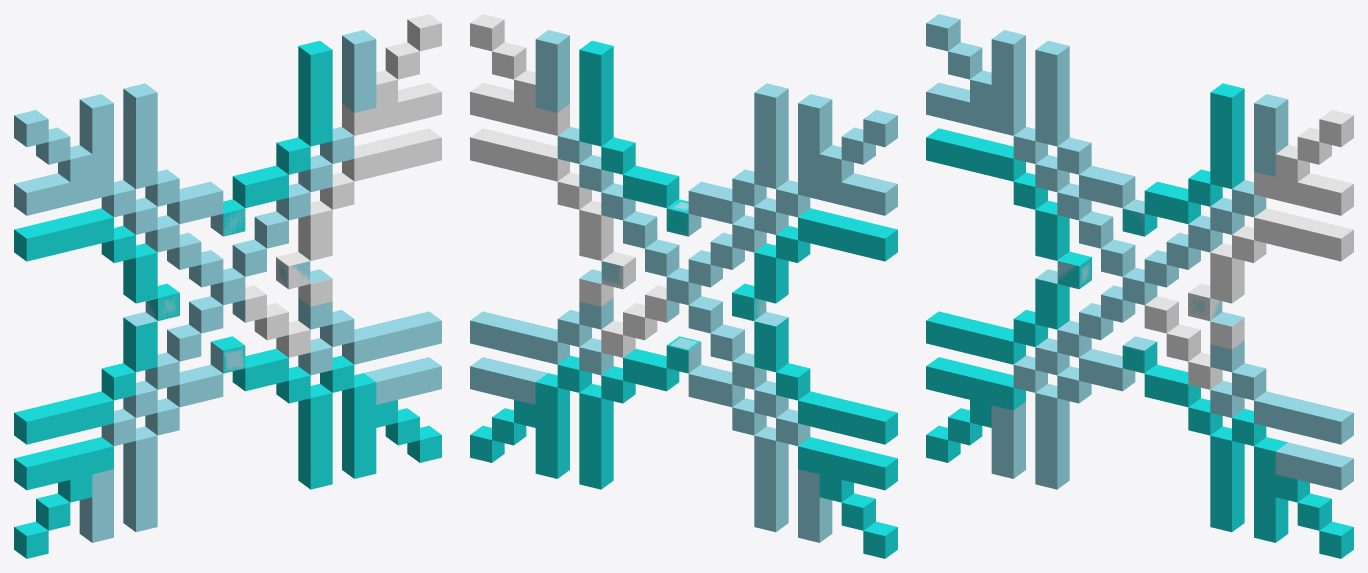
The model's file is p_snow_voxel.fbx.
3 renders of one model, left to right at view 1: azimuth 30°, elevation 25°; view 2: azimuth 150°, elevation 25°; view 3: azimuth 330°, elevation 25°, orthographic.
Parts seen in each view (by area): view 1: Voxels.snow.008, Voxels.snow.065, Voxels.snow.024, Voxels.snow.067, Voxels.snow.120, Voxels.snow.005, Voxels.snow.009, Voxels.snow.043, Voxels.snow.066, Voxels.snow.107, Voxels.snow.134, Voxels.snow.030 (+106 smaller); view 2: Voxels.snow.008, Voxels.snow.065, Voxels.snow.024, Voxels.snow.067, Voxels.snow.120, Voxels.snow.005, Voxels.snow.009, Voxels.snow.043, Voxels.snow.066, Voxels.snow.107, Voxels.snow.134, Voxels.snow.030 (+105 smaller); view 3: Voxels.snow.031, Voxels.snow.042, Voxels.snow.033, Voxels.snow.058, Voxels.snow.086, Voxels.snow.009, Voxels.snow.032, Voxels.snow.039, Voxels.snow.043, Voxels.snow.073, Voxels.snow.100, Voxels.snow.064 (+105 smaller).
Boxes of the visible parts, x1,y1,x2,y2 form: Voxels.snow.008: [276, 137, 310, 174]; Voxels.snow.065: [14, 224, 48, 261]; Voxels.snow.024: [342, 30, 376, 67]; Voxels.snow.067: [14, 110, 48, 147]; Voxels.snow.120: [101, 363, 135, 400]; Voxels.snow.005: [254, 211, 288, 248]; Voxels.snow.009: [298, 40, 332, 77]; Voxels.snow.043: [123, 83, 157, 120]; Voxels.snow.066: [14, 178, 48, 215]; Voxels.snow.107: [167, 324, 201, 361]; Voxels.snow.134: [14, 453, 48, 490]; Voxels.snow.030: [385, 42, 419, 79]; Voxels.snow.008: [601, 137, 635, 174]; Voxels.snow.065: [863, 224, 897, 261]; Voxels.snow.024: [535, 30, 569, 67]; Voxels.snow.067: [863, 110, 897, 147]; Voxels.snow.120: [776, 363, 810, 400]; Voxels.snow.005: [623, 211, 657, 248]; Voxels.snow.009: [579, 40, 613, 77]; Voxels.snow.043: [754, 83, 788, 120]; Voxels.snow.066: [863, 178, 897, 215]; Voxels.snow.107: [710, 324, 744, 361]; Voxels.snow.134: [863, 453, 897, 490]; Voxels.snow.030: [492, 42, 526, 79]; Voxels.snow.031: [1319, 224, 1353, 261]; Voxels.snow.042: [1057, 137, 1091, 174]; Voxels.snow.033: [1319, 110, 1353, 147]; Voxels.snow.058: [991, 30, 1025, 67]; Voxels.snow.086: [1232, 363, 1266, 400]; Voxels.snow.009: [1210, 83, 1244, 120]; Voxels.snow.032: [1319, 178, 1353, 215]; Voxels.snow.039: [1079, 211, 1113, 248]; Voxels.snow.043: [1035, 40, 1069, 77]; Voxels.snow.073: [1166, 324, 1200, 361]; Voxels.snow.100: [1319, 453, 1353, 490]; Voxels.snow.064: [948, 42, 982, 79].
Size of the model in its own units: 1.89 by 1.9 by 0.0997.
